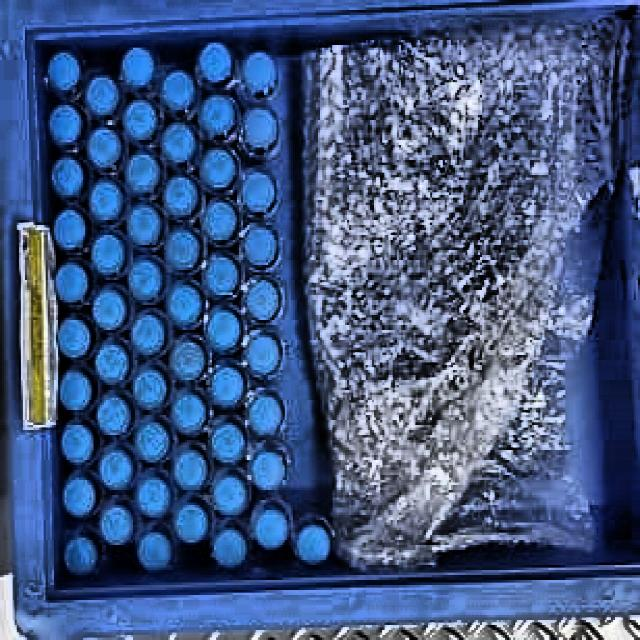vial: (247, 444, 288, 491), (239, 50, 279, 98), (197, 147, 238, 192), (242, 223, 280, 271), (204, 253, 243, 299), (241, 108, 280, 153), (244, 332, 284, 375), (198, 93, 236, 138), (50, 207, 88, 252), (243, 278, 281, 323), (246, 392, 284, 437), (194, 43, 232, 87), (88, 176, 125, 221), (164, 172, 199, 219), (121, 101, 159, 144), (202, 200, 240, 243), (210, 474, 248, 517), (135, 476, 173, 519), (60, 475, 96, 520), (59, 421, 94, 467), (208, 367, 246, 409), (172, 392, 209, 435), (83, 74, 119, 118), (49, 155, 85, 199), (166, 284, 202, 328), (45, 52, 83, 93), (127, 261, 164, 303), (90, 233, 126, 276), (49, 104, 84, 148), (126, 204, 162, 246), (56, 316, 92, 358), (91, 290, 127, 332), (98, 449, 133, 492), (254, 508, 288, 552), (242, 171, 276, 215), (159, 73, 196, 113), (159, 125, 196, 165), (136, 422, 173, 462), (125, 152, 160, 194), (174, 502, 209, 544), (96, 395, 131, 437), (94, 344, 129, 386), (52, 264, 90, 302), (86, 128, 123, 167), (120, 48, 156, 88), (295, 525, 331, 565), (210, 422, 246, 462), (169, 340, 205, 380), (212, 526, 247, 567), (137, 532, 172, 573), (208, 308, 241, 351), (165, 230, 201, 269), (101, 504, 134, 546), (59, 369, 91, 412), (133, 314, 166, 355), (134, 370, 168, 409), (64, 538, 98, 575), (175, 451, 207, 490)
